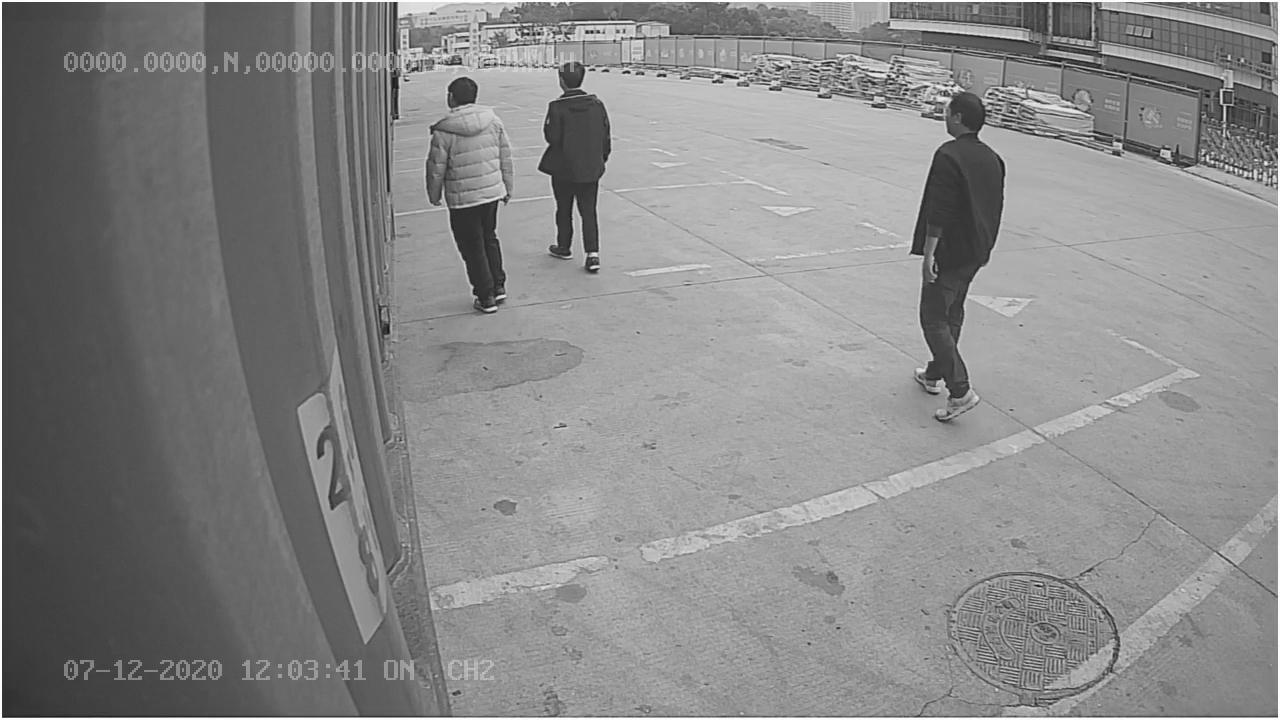person: (908, 85, 1006, 424), (419, 71, 518, 318)
